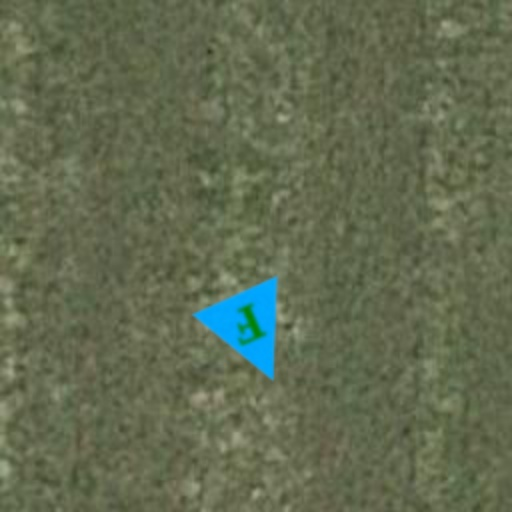triangle: (190, 274, 318, 402)
